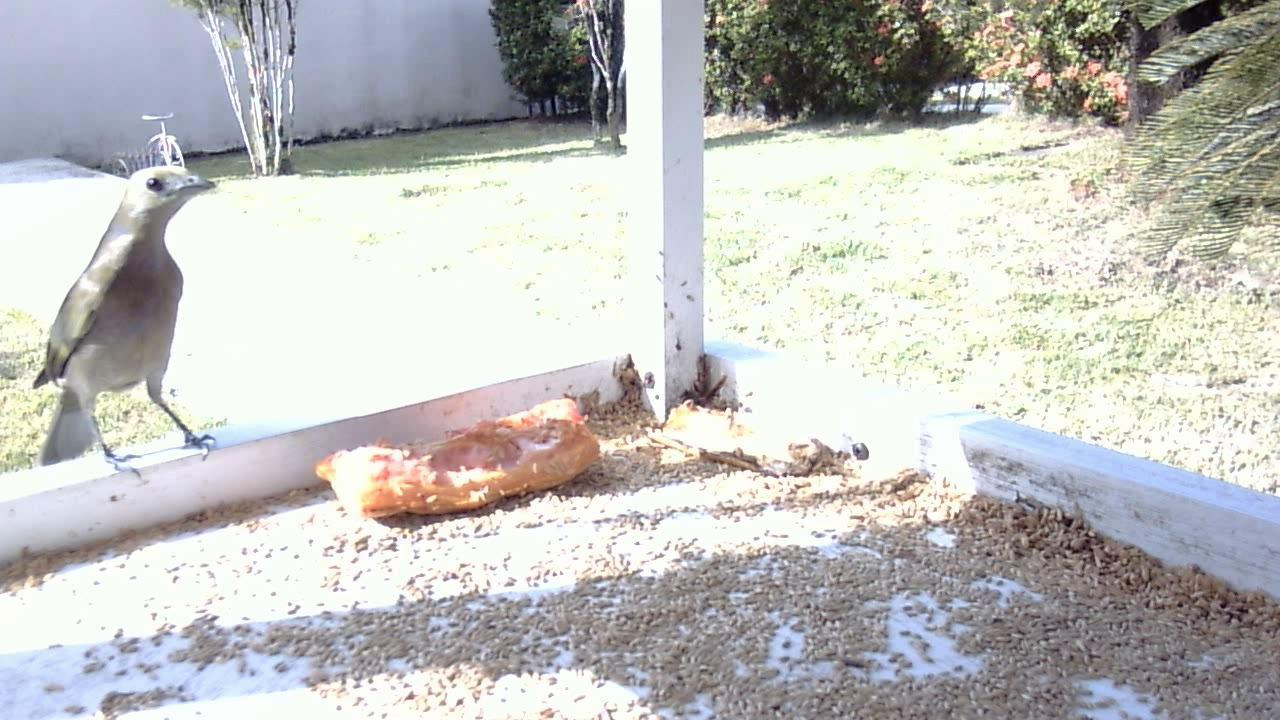sanhaco_do_coqueiro: (20, 155, 230, 494)
